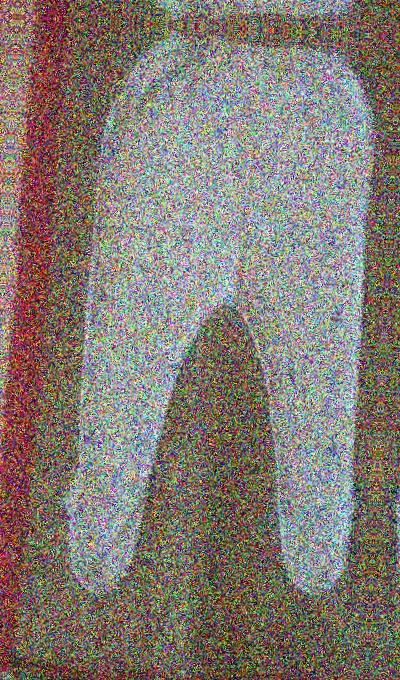Pants: (56, 38, 393, 607), (377, 55, 400, 624), (86, 0, 400, 18)
